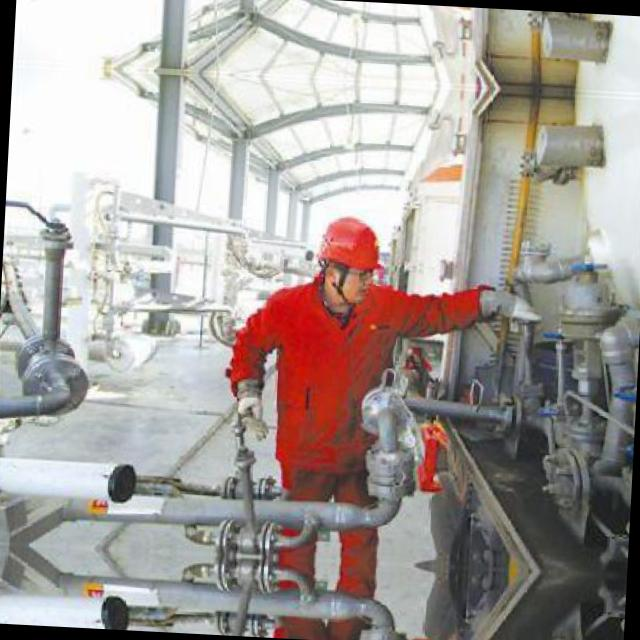helmet: (303, 207, 392, 319)
